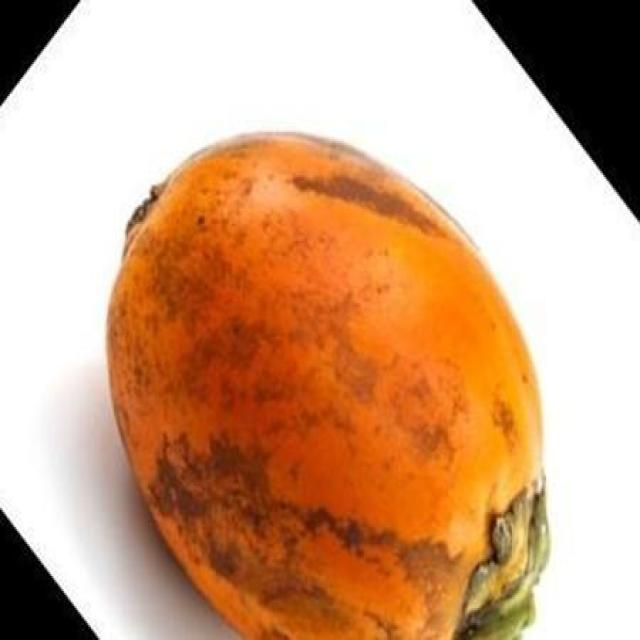good: (104, 134, 552, 638)
